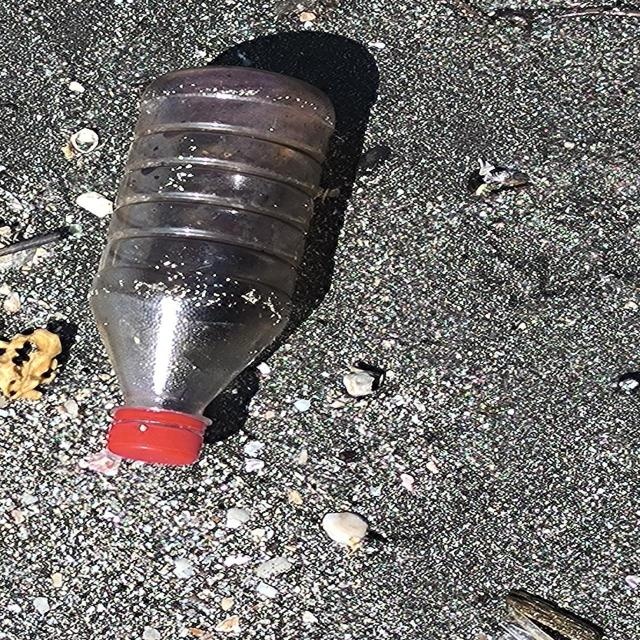plastic_waste: (87, 66, 339, 472)
